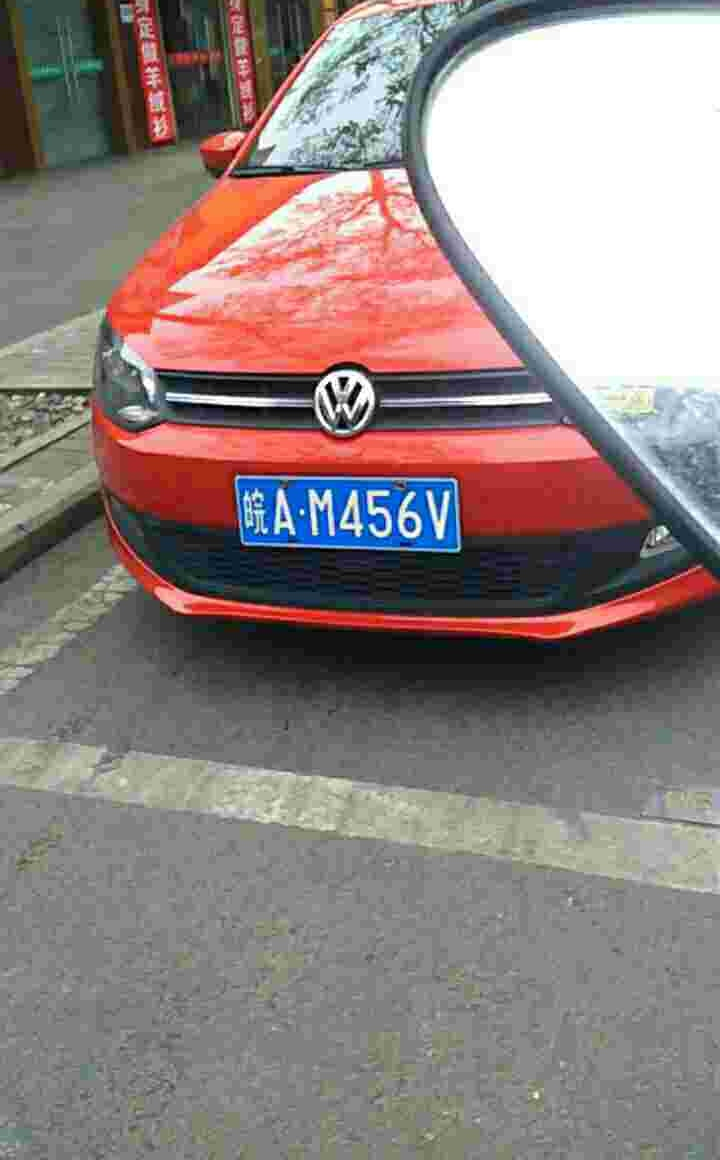license_plate: (241, 476, 458, 553)
